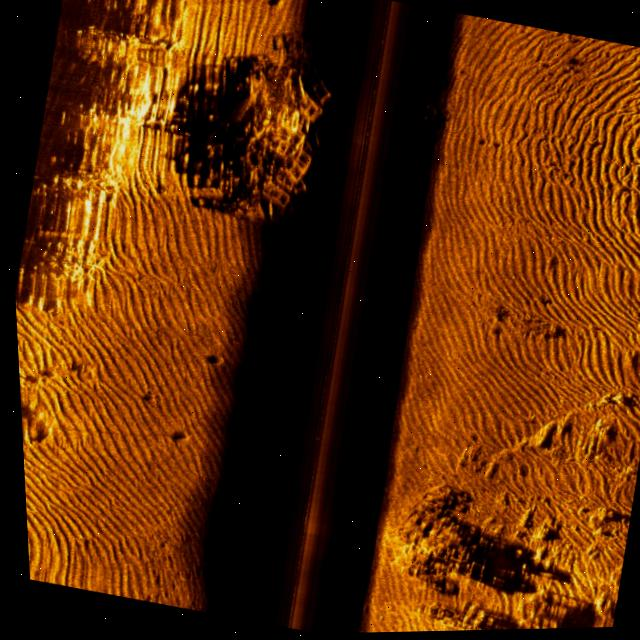artificial reef: (169, 9, 343, 233), (386, 30, 461, 167)
